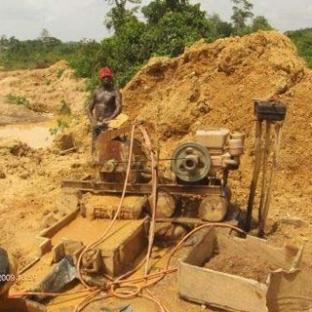Person: (67, 66, 137, 124)
ProcessingEquipment: (20, 123, 268, 285)
